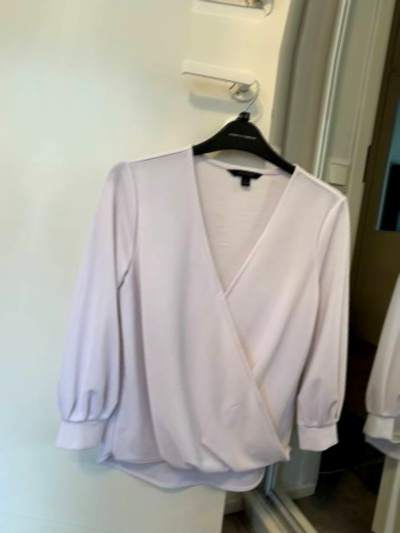Blouse: (24, 95, 390, 513), (0, 33, 30, 451)
